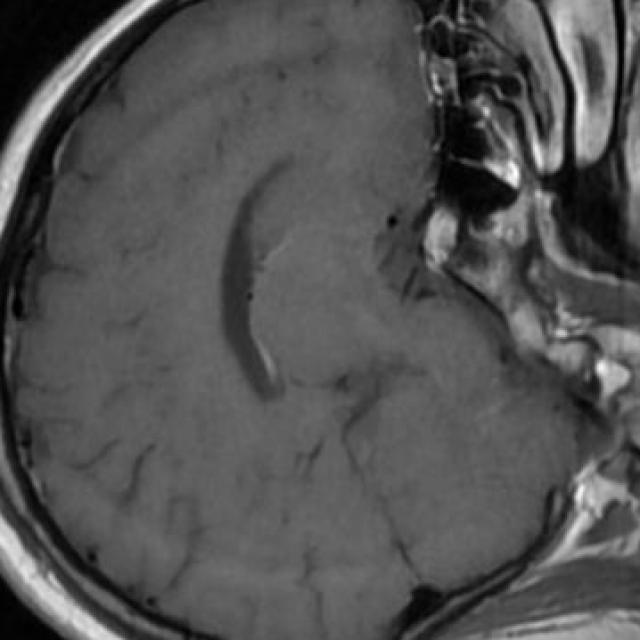pituitary: (423, 209, 456, 273)
